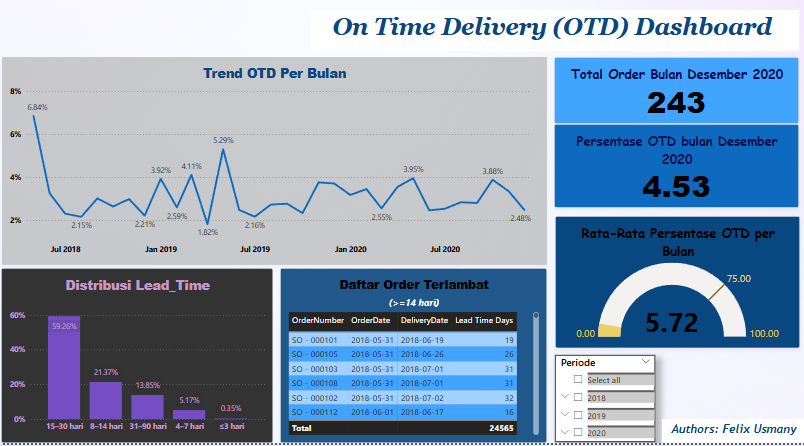

What the dashboard file says about the page in this screenshot:
{"tool":"powerbi","page":{"name":"Page 1","canvas":[1280,720],"ordinal":0},"visuals":[{"type":"clusteredColumnChart","title":"Distribusi Lead_Time","fields":{"Category":["KPI_leadtime_dist.kategori"],"Y":["Divide(Sum(KPI_leadtime_dist.persen), ScopedEval(Sum(KPI_leadtime_dist.persen), []))"]},"box":[1.6,442.2,431.7,277.8],"z":1},{"type":"tableEx","title":"Daftar Order Terlambat ","fields":{"Values":["orders.OrderNumber","orders.OrderDate","orders.DeliveryDate","Sum(Tabel Late_order.lead_time_days)"]},"box":[444.4,442.2,423.8,277.8],"z":3},{"type":"lineChart","title":"Trend OTD Per Bulan","fields":{"Y":["Sum(Table 1 (OTD_monthly).OTD_percent)"],"Category":["Table 1 (OTD_monthly).periode"]},"box":[3.2,107.9,865.1,330.2],"z":6},{"type":"card","title":"Total Order Bulan Desember 2020","fields":{"Values":["Sum(Table 1 (OTD_monthly).total_order)"]},"box":[879.4,107.9,388.9,106.3],"z":7},{"type":"card","title":"Persentase OTD bulan Desember 2020","fields":{"Values":["Sum(Table 1 (OTD_monthly).OTD_percent)"]},"box":[879.4,214.3,388.9,133.3],"z":8},{"type":"textbox","box":[493.7,33.3,774.6,65.1],"z":9},{"type":"slicer","fields":{"Values":["Table 1 (OTD_monthly).periode.Variation.Date Hierarchy.Year","Table 1 (OTD_monthly).periode.Variation.Date Hierarchy.Month"]},"box":[881,581,158.7,138.1],"z":10},{"type":"gauge","title":"Rata-Rata Persentase OTD per Bulan","fields":{"Y":["Avg(Table 1 (OTD_monthly).OTD_percent)"]},"box":[881,360.3,388.9,209.5],"z":11},{"type":"textbox","box":[1050.8,682.5,228.6,36.5],"z":12}]}

Visuals, with their boxes in screenshot pixels (x1, y1, x2, y2), scaled from the page's 1280x720 canvas onto the 804x446 screenshot:
"Distribusi Lead_Time" clusteredColumnChart: BBox(1, 274, 272, 445)
"Daftar Order Terlambat " tableEx: BBox(279, 274, 545, 445)
"Trend OTD Per Bulan" lineChart: BBox(2, 67, 545, 271)
"Total Order Bulan Desember 2020" card: BBox(552, 67, 797, 133)
"Persentase OTD bulan Desember 2020" card: BBox(552, 133, 797, 215)
textbox: BBox(310, 21, 797, 61)
slicer - Table 1 (OTD_monthly).periode.Variation.Date Hierarchy.Year x Table 1 (OTD_monthly).periode.Variation.Date Hierarchy.Month: BBox(553, 360, 653, 445)
"Rata-Rata Persentase OTD per Bulan" gauge: BBox(553, 223, 798, 353)
textbox: BBox(660, 423, 803, 445)
